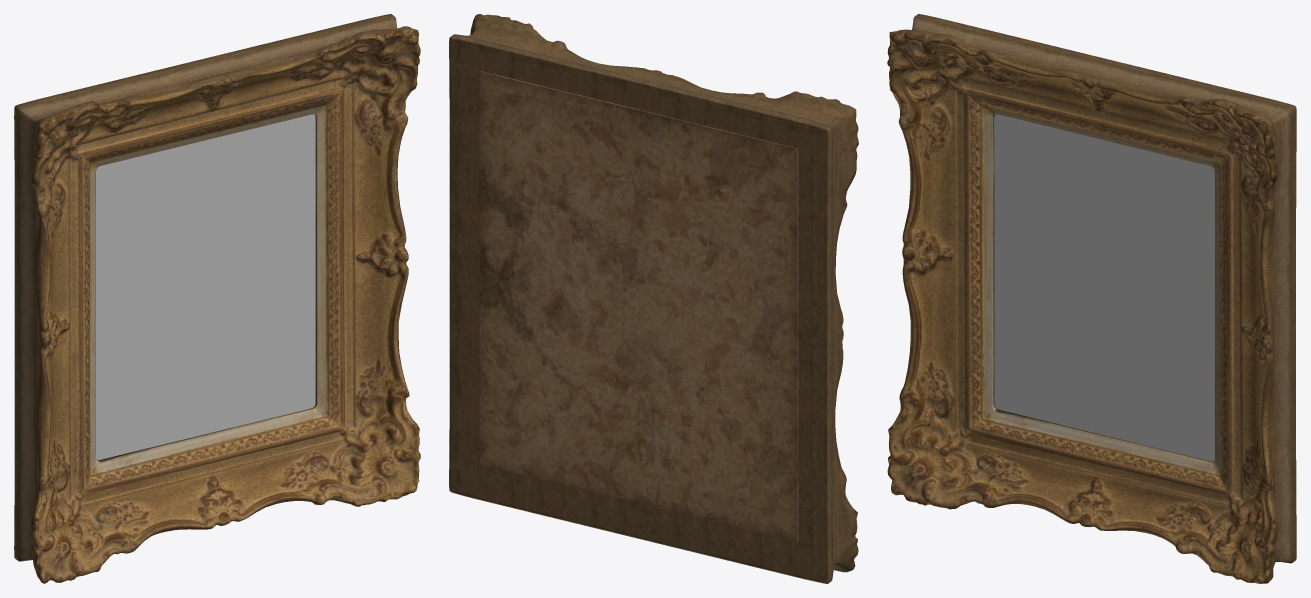
File: fancy_picture_frame_02_1k.fbx
3 renders of one model, left to right at view 1: azimuth 30°, elevation 25°; view 2: azimuth 150°, elevation 25°; view 3: azimuth 330°, elevation 25°, orthographic.
Parts seen in each view (by area): view 1: fancy_picture_frame_02, fancy_picture_frame_02_canvas; view 2: fancy_picture_frame_02; view 3: fancy_picture_frame_02, fancy_picture_frame_02_canvas.
Part boxes in pixels (<box>): fancy_picture_frame_02: <box>14,14,420,583</box>; fancy_picture_frame_02_canvas: <box>96,114,315,460</box>; fancy_picture_frame_02: <box>449,14,858,583</box>; fancy_picture_frame_02: <box>887,14,1296,583</box>; fancy_picture_frame_02_canvas: <box>994,114,1214,461</box>.
Size of the model in its own units: 66.06 by 77.1 by 8.9.
